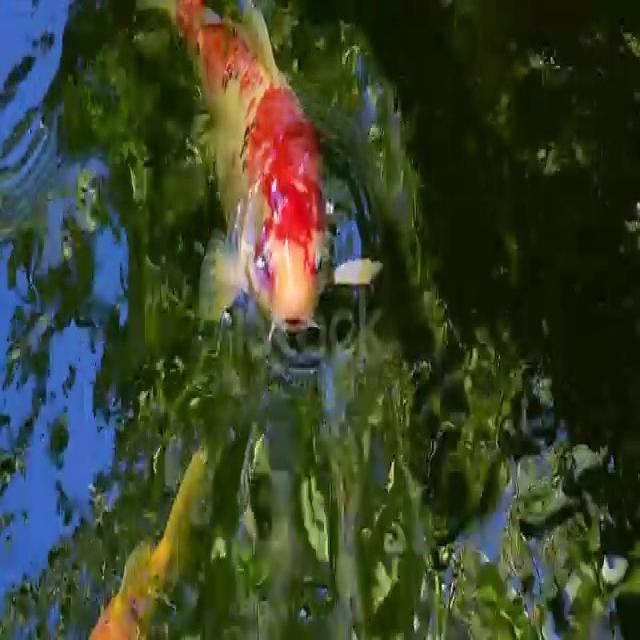fish: (163, 0, 391, 343), (89, 441, 229, 640)
